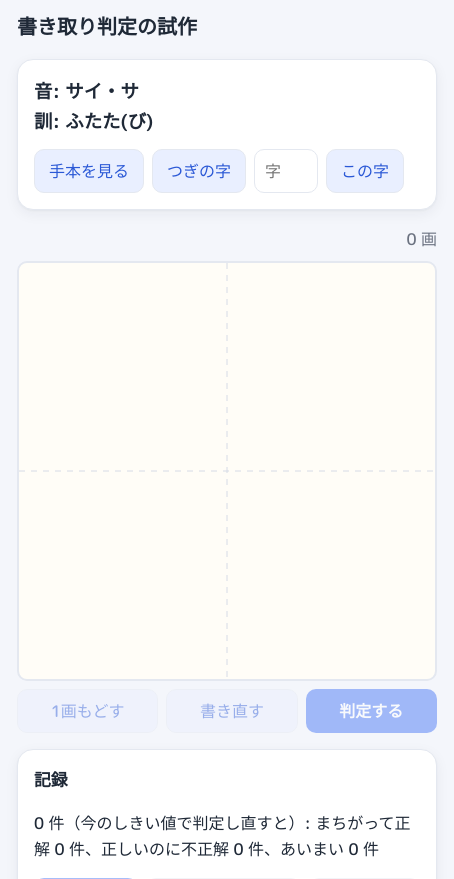
Scenario: 書くマス › [HWR-06] 1画もどす・書き直すで線を消せる
The image size is (454, 879).
Press the mouse on the drawing with test id "writing-pad" at (227, 470), box [17,260,437,680]
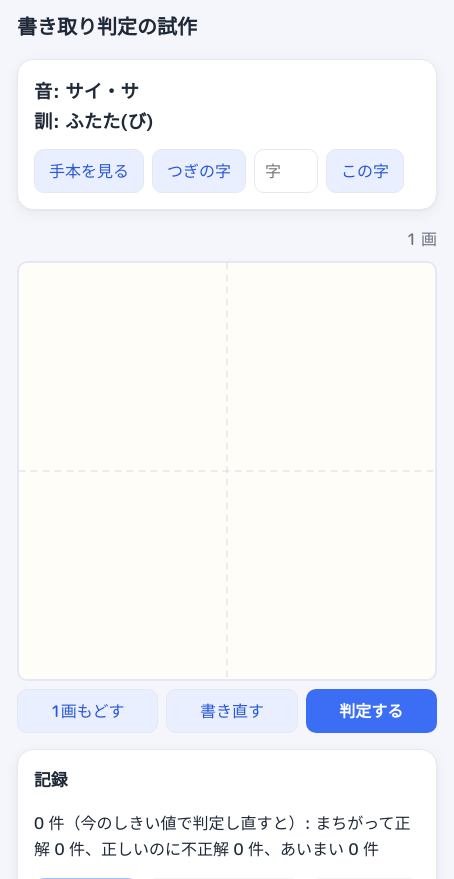
Press the mouse on the drawing with test id "writing-pad" at (227, 470), box [17,260,437,680]
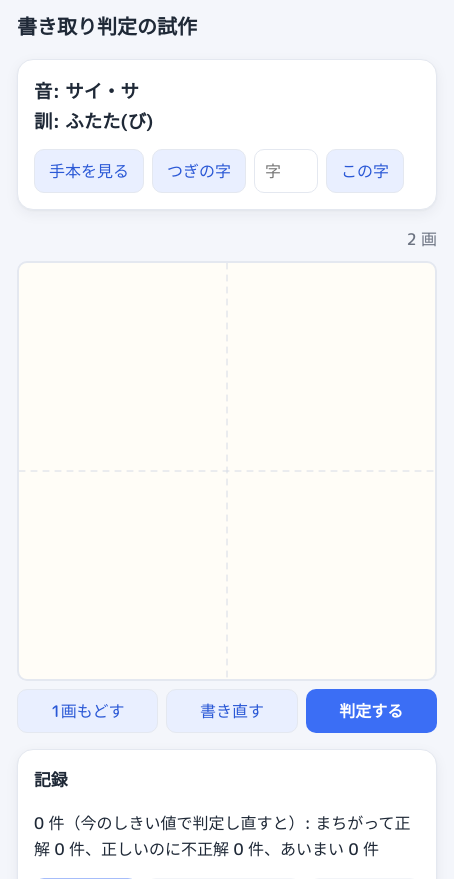
Check: the text "2 画" is shown, box [406,228,437,250]
Click the button "1画もどす" at (88, 711), box [17,688,158,733]
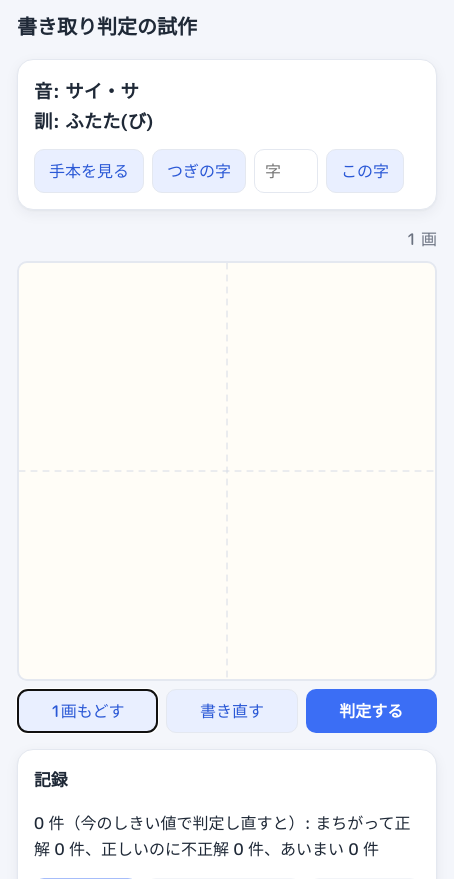
Check: the text "1 画" is shown, box [406,228,437,250]
Click the button "書き直す" at (232, 711), box [166,688,298,733]
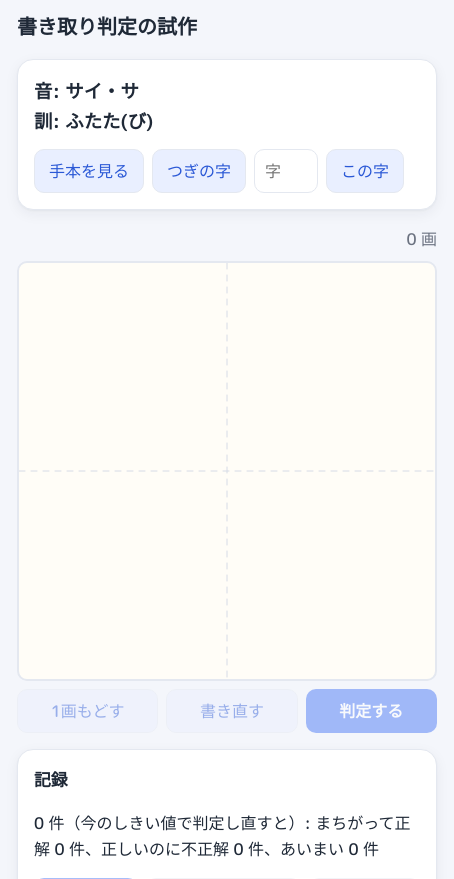
Check: the text "0 画" is shown, box [406,228,437,250]
